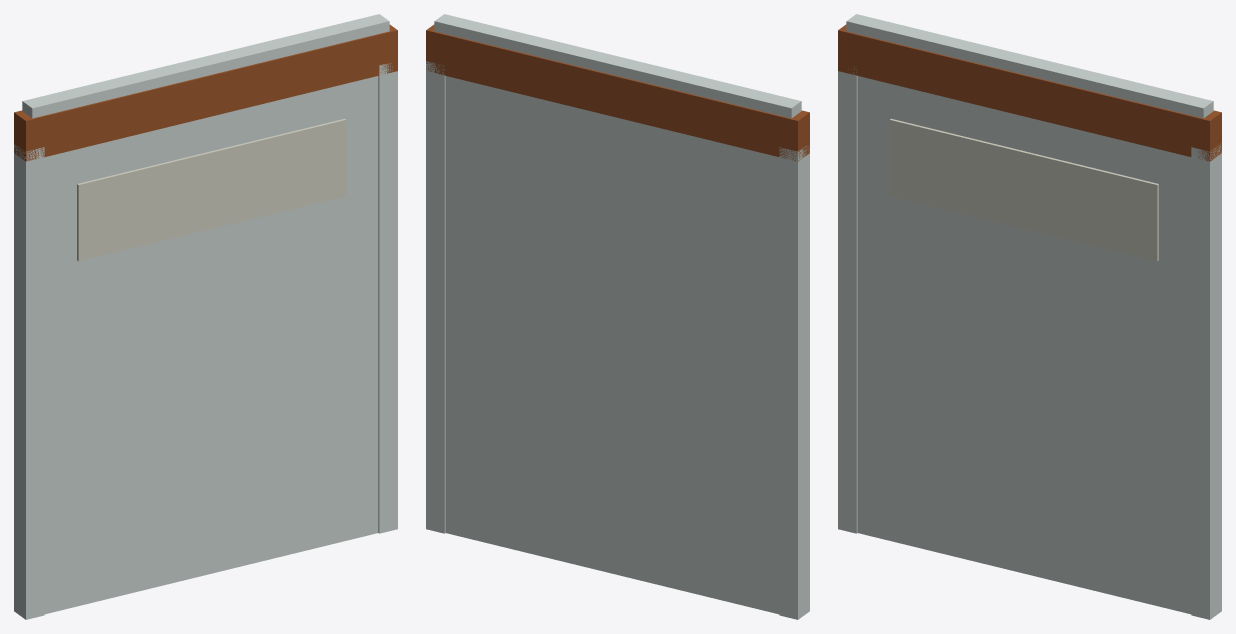
File: EVIDENCE_BAG_LODs.fbx
3 renders of one model, left to right at view 1: azimuth 30°, elevation 25°; view 2: azimuth 150°, elevation 25°; view 3: azimuth 330°, elevation 25°, orthographic.
Visible parts, largest first — view 1: EVIDENCE_BAG_LOD0; view 2: EVIDENCE_BAG_LOD0; view 3: EVIDENCE_BAG_LOD0.
Boxes of the visible parts, <box> form: EVIDENCE_BAG_LOD0: <box>14,14,397,619</box>; EVIDENCE_BAG_LOD0: <box>426,14,809,619</box>; EVIDENCE_BAG_LOD0: <box>838,14,1221,619</box>.
Size of what is drawn, in the model's own units: 0.26 by 0.34 by 0.015.
